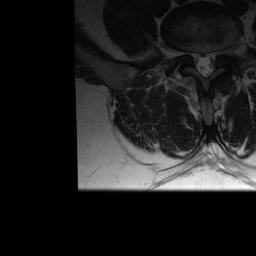CCS_normal: (200, 44, 208, 82)
LFS_severe_stenosis: (216, 42, 224, 65)
LLS_normal: (208, 45, 216, 76)
RFS_severe_stenosis: (183, 42, 192, 66)
RLS_normal: (192, 44, 200, 76)
